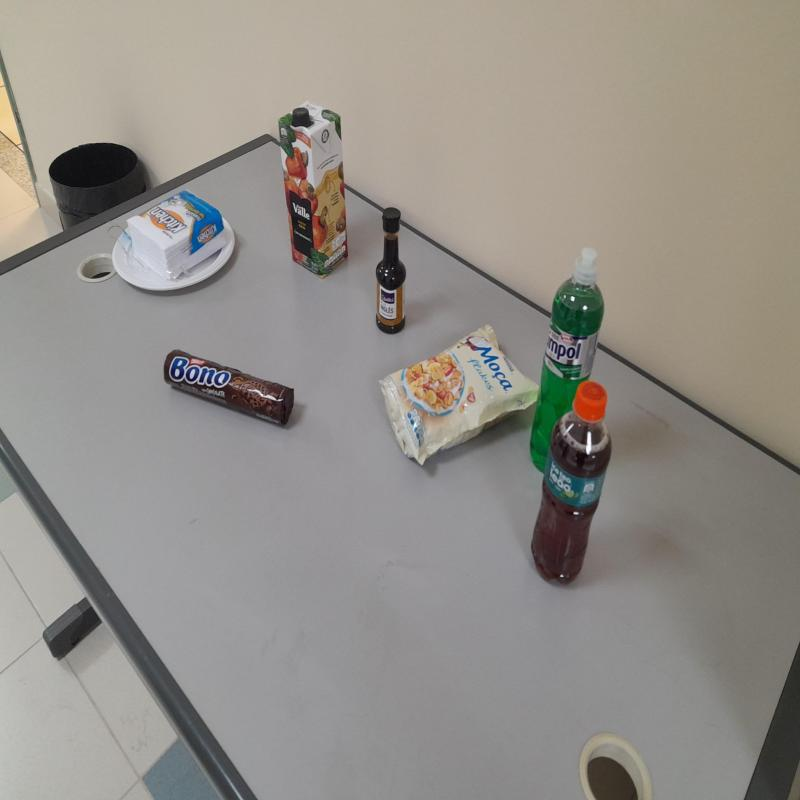Cleaner: (530, 249, 604, 474)
Cookies: (160, 351, 297, 430)
CornFlakes: (380, 326, 538, 470)
EnglishSauce: (376, 209, 406, 334)
IceTea: (531, 382, 612, 586)
